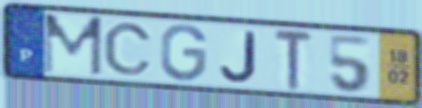5: (327, 32, 373, 96)
C: (100, 21, 155, 77)
G: (158, 22, 210, 84)
J: (218, 29, 260, 84)
M: (40, 12, 105, 79)
T: (272, 27, 316, 93)
